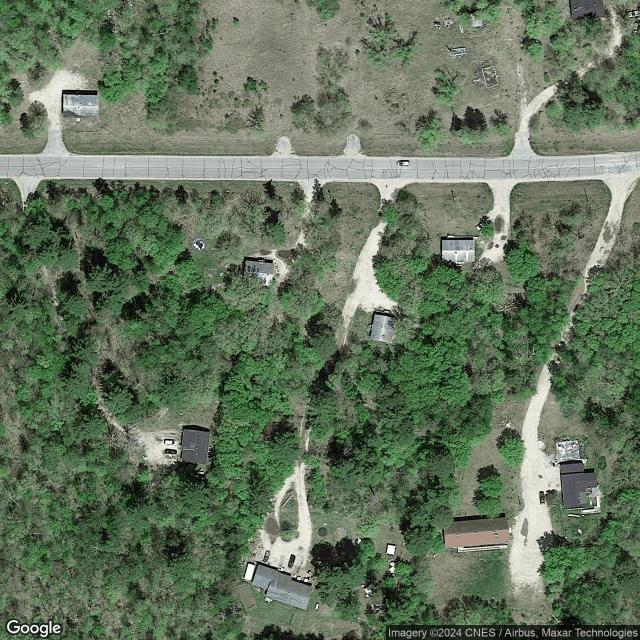Propane: (314, 602, 320, 611), (196, 470, 205, 475)
